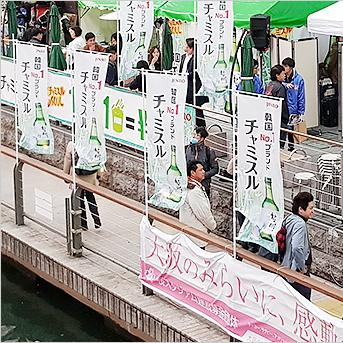soju: (159, 144, 185, 205)
